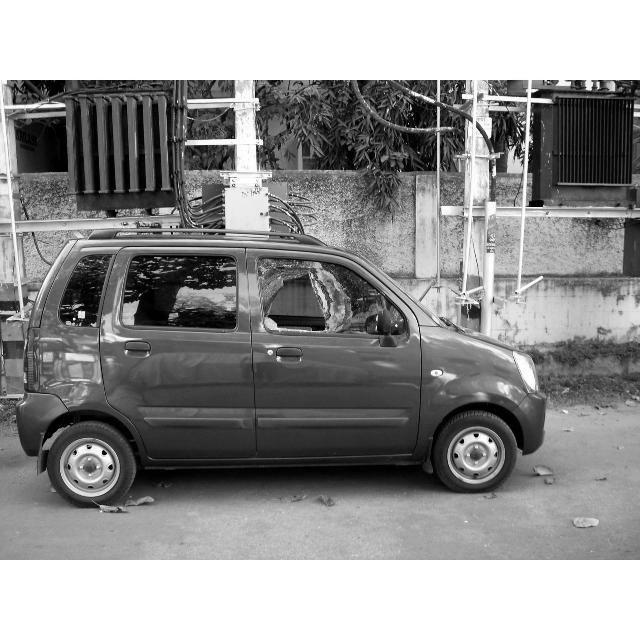doorouter-dent: (258, 241, 414, 397)
